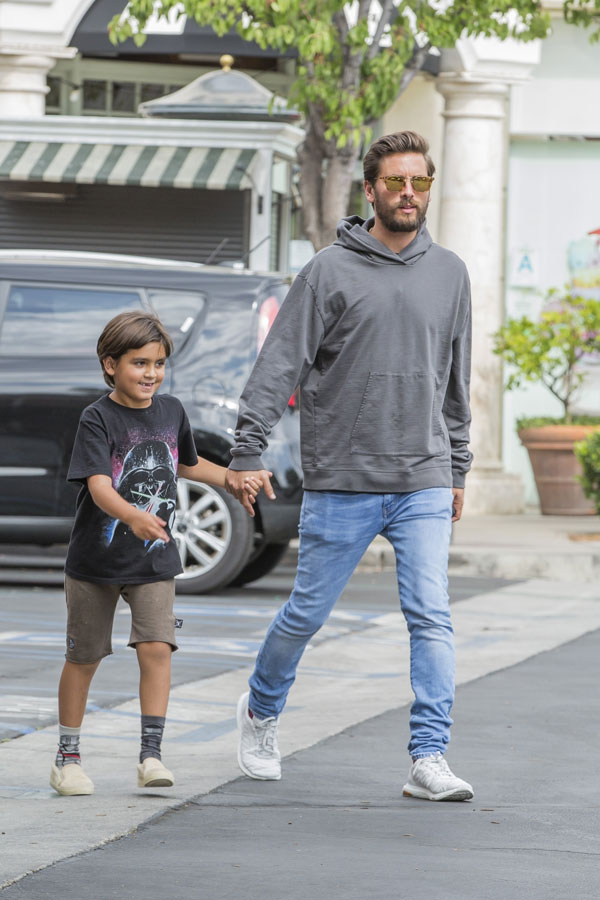Person: (226, 132, 475, 798), (50, 309, 225, 795)
